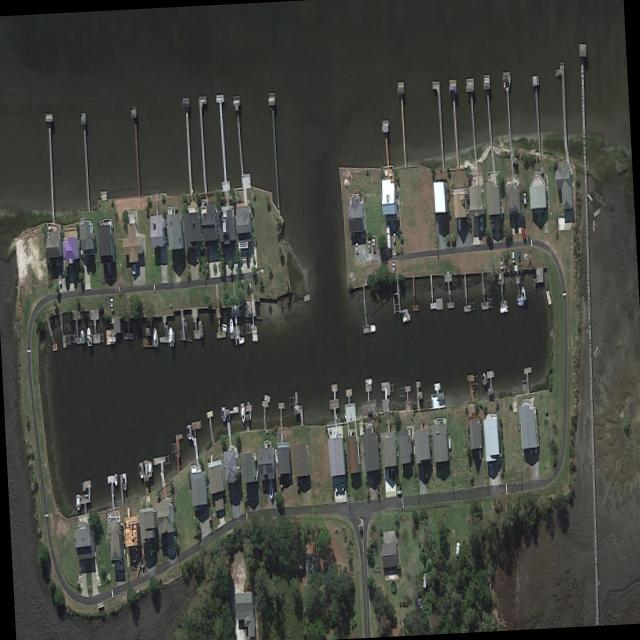ship: (235, 333, 245, 347), (229, 318, 235, 339), (240, 402, 246, 422), (169, 327, 175, 346), (269, 479, 274, 500), (87, 326, 92, 346), (457, 213, 462, 232), (153, 327, 158, 346), (76, 494, 81, 512), (139, 461, 144, 479), (221, 406, 226, 423), (122, 474, 127, 491), (187, 424, 192, 440), (80, 329, 85, 344), (456, 541, 460, 558), (275, 448, 279, 465), (522, 285, 526, 301), (480, 216, 484, 232), (501, 306, 509, 314), (148, 462, 152, 478), (114, 473, 118, 488), (483, 371, 487, 385), (365, 377, 372, 384), (109, 336, 117, 342), (517, 301, 524, 306)
small-vehicle: (521, 227, 526, 242), (278, 477, 284, 489), (489, 463, 494, 476), (523, 191, 527, 205), (196, 249, 200, 263), (110, 298, 114, 312), (372, 239, 376, 252), (368, 240, 372, 252), (500, 257, 504, 269), (512, 250, 516, 262), (334, 482, 338, 494), (392, 263, 396, 274), (342, 478, 345, 492), (59, 274, 62, 287), (535, 446, 538, 458), (393, 232, 396, 244), (518, 250, 521, 262), (392, 472, 395, 483), (356, 243, 359, 253), (397, 490, 402, 496), (523, 214, 525, 228), (62, 261, 65, 270), (492, 219, 494, 232), (389, 470, 391, 480)
